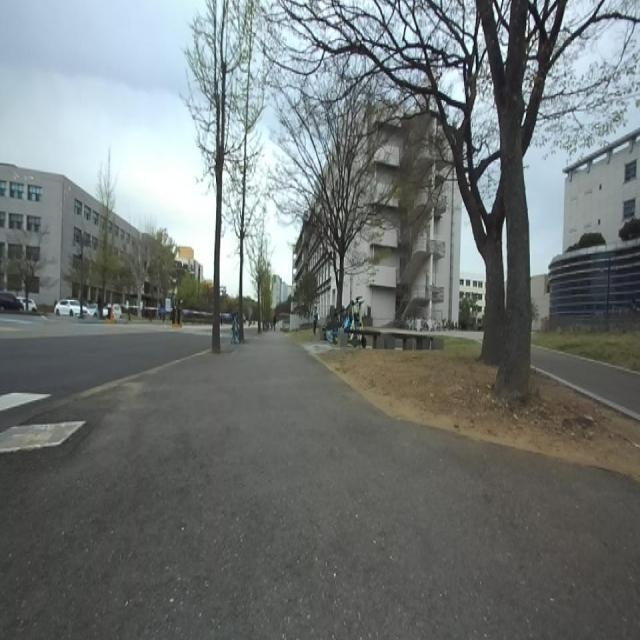sidewalk: (0, 334, 640, 638), (0, 421, 84, 452)
